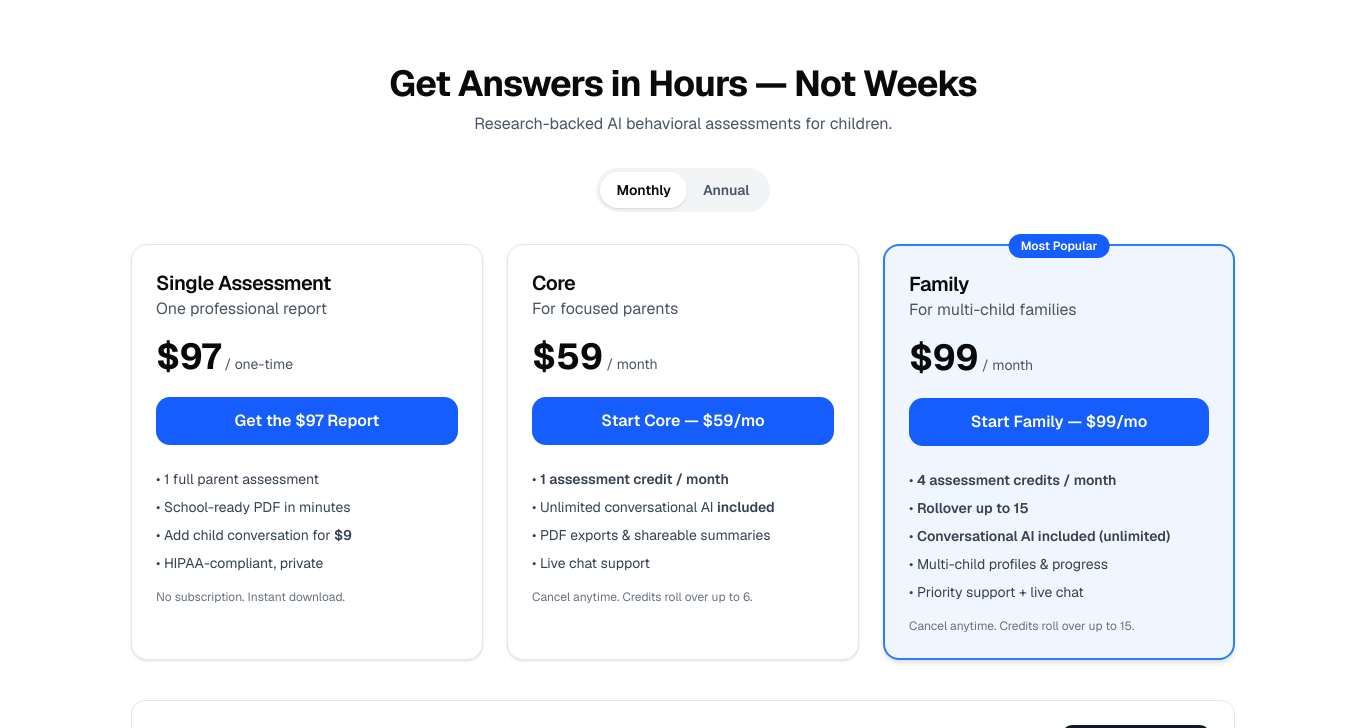
Test: LandingPagePricing › renders monthly and annual toggle and switches prices
This screenshot has width=1366, height=728.
Click the button "Annual" at (726, 190), box [687,172,766,208]
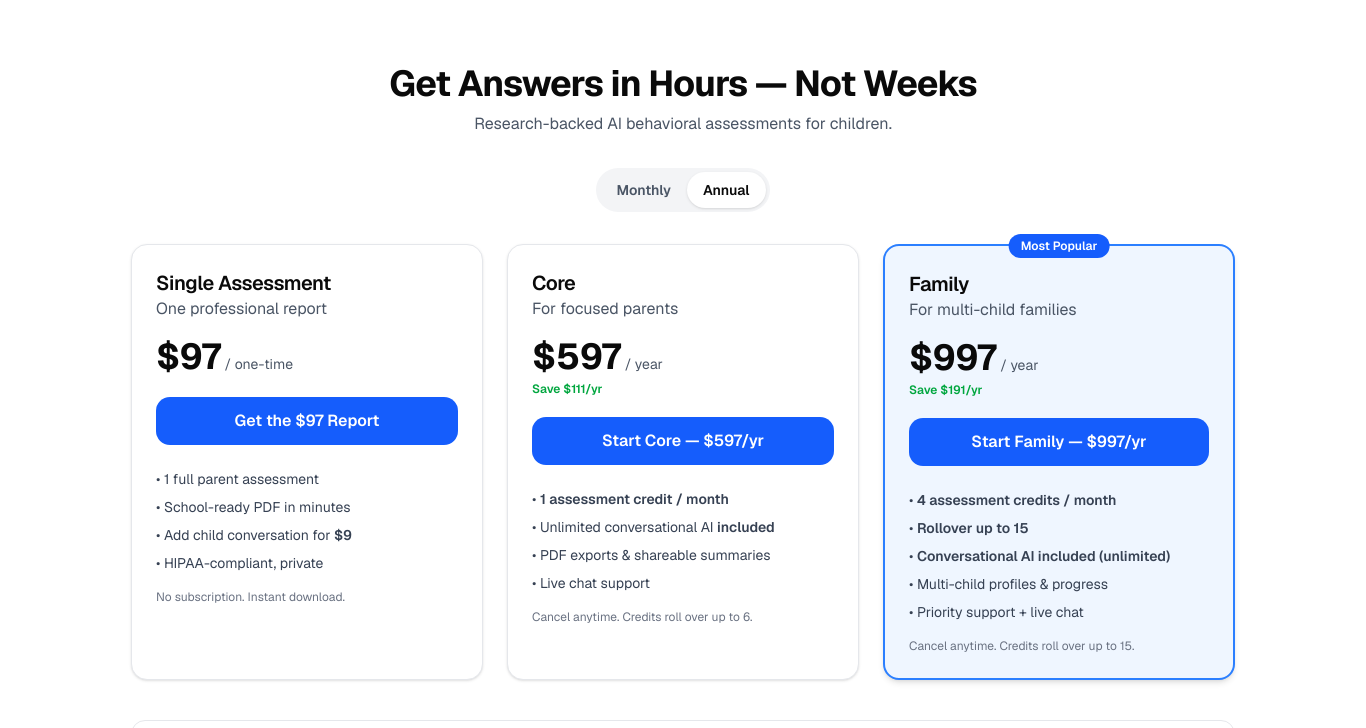
Now the text "$597" is shown, box [532,333,621,380]
Now the text "Save $111/yr" is shown, box [532,381,602,397]
